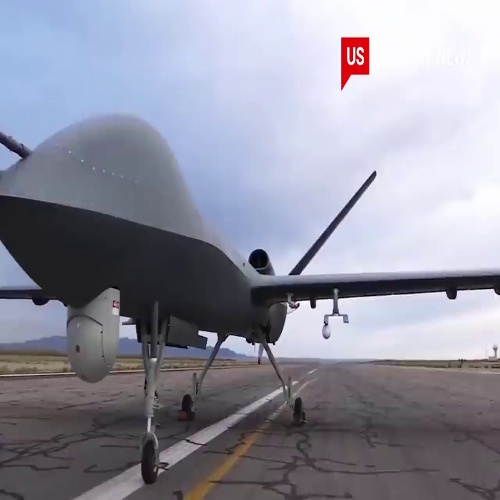uav360: (1, 112, 500, 478)
